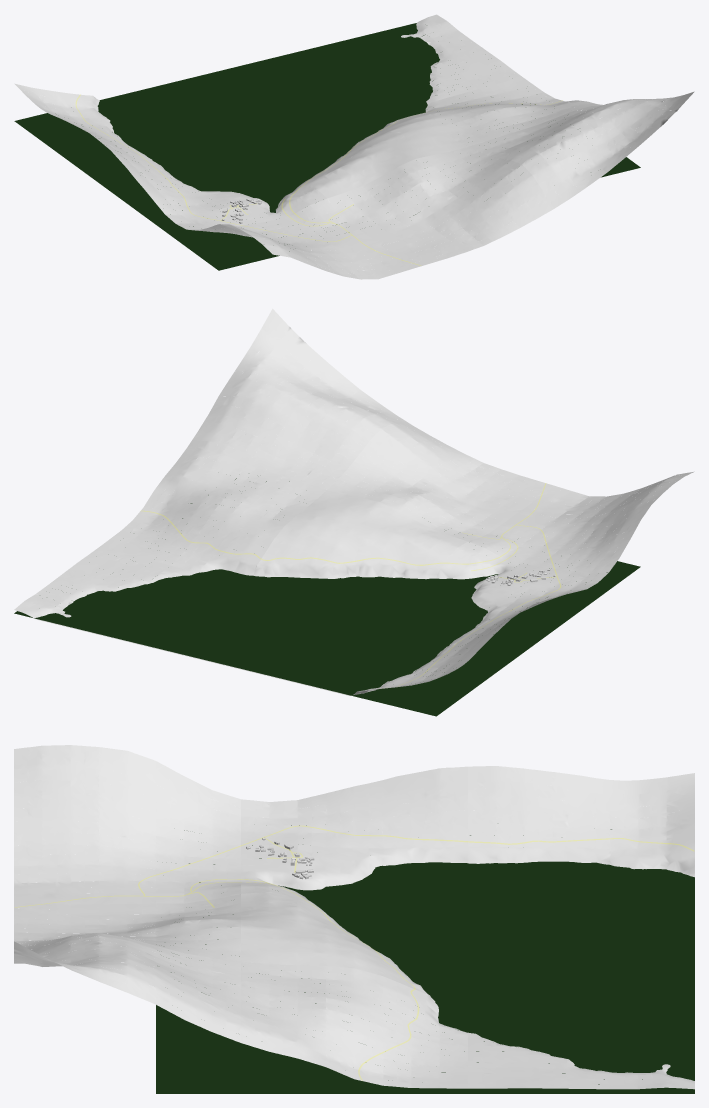
File: Msh_Sect06_Sitio.glb
3 views of the same model, one above another, from view 1: azimuth 30°, elevation 25°; view 2: azimuth 150°, elevation 25°; view 3: azimuth 270°, elevation 25° (orthographic). The views are drawn at different scales.
Visible parts, largest first — view 1: Msh_Water, Msh_Sec6_Bloque_4, Msh_Sec6_Bloque_7, Msh_Sec6_Bloque_1, Msh_Sec6_Bloque_8, Msh_Sec6_Bloque_2, Msh_Sec6_Bloque_5, Msh_Sec6_Bloque_9, Msh_Sec6_Bloque_3; view 2: Msh_Water, Msh_Sec6_Bloque_7, Msh_Sec6_Bloque_8, Msh_Sec6_Bloque_4, Msh_Sec6_Bloque_5, Msh_Sec6_Bloque_1, Msh_Sec6_Bloque_2, Msh_Sec6_Bloque_9, Msh_Sec6_Bloque_3; view 3: Msh_Water, Msh_Sec6_Bloque_1, Msh_Sec6_Bloque_8, Msh_Sec6_Bloque_3, Msh_Sec6_Bloque_2, Msh_Sec6_Bloque_7, Msh_Sec6_Bloque_4, Msh_Sec6_Bloque_5, Msh_Sec6_Bloque_9, Msh_Buildings, Msh_Roads.
Part boxes in pixels (x1=…): Msh_Water: x1=14, y1=23, x2=640, y2=270; Msh_Sec6_Bloque_4: x1=327, y1=147, x2=553, y2=268; Msh_Sec6_Bloque_7: x1=468, y1=91, x2=694, y2=208; Msh_Sec6_Bloque_1: x1=188, y1=198, x2=412, y2=279; Msh_Sec6_Bloque_8: x1=398, y1=77, x2=603, y2=146; Msh_Sec6_Bloque_2: x1=101, y1=142, x2=326, y2=229; Msh_Sec6_Bloque_5: x1=300, y1=118, x2=467, y2=198; Msh_Sec6_Bloque_9: x1=401, y1=14, x2=521, y2=103; Msh_Sec6_Bloque_3: x1=14, y1=83, x2=163, y2=168; Msh_Water: x1=14, y1=478, x2=640, y2=716; Msh_Sec6_Bloque_7: x1=186, y1=308, x2=412, y2=489; Msh_Sec6_Bloque_8: x1=100, y1=448, x2=326, y2=575; Msh_Sec6_Bloque_4: x1=327, y1=424, x2=553, y2=541; Msh_Sec6_Bloque_5: x1=253, y1=490, x2=467, y2=579; Msh_Sec6_Bloque_1: x1=468, y1=471, x2=694, y2=572; Msh_Sec6_Bloque_2: x1=436, y1=541, x2=607, y2=634; Msh_Sec6_Bloque_9: x1=14, y1=546, x2=194, y2=648; Msh_Sec6_Bloque_3: x1=296, y1=612, x2=520, y2=695; Msh_Water: x1=156, y1=825, x2=694, y2=1093; Msh_Sec6_Bloque_1: x1=14, y1=745, x2=240, y2=904; Msh_Sec6_Bloque_8: x1=241, y1=961, x2=467, y2=1088; Msh_Sec6_Bloque_3: x1=468, y1=766, x2=694, y2=877; Msh_Sec6_Bloque_2: x1=241, y1=766, x2=468, y2=902; Msh_Sec6_Bloque_7: x1=14, y1=933, x2=240, y2=1042; Msh_Sec6_Bloque_4: x1=14, y1=894, x2=240, y2=961; Msh_Sec6_Bloque_5: x1=241, y1=892, x2=435, y2=1002; Msh_Sec6_Bloque_9: x1=468, y1=1032, x2=694, y2=1089; Msh_Buildings: x1=246, y1=837, x2=314, y2=879; Msh_Roads: x1=138, y1=826, x2=693, y2=1079.
Bounding box in the file's own units: 1511 × 398 × 1600.
